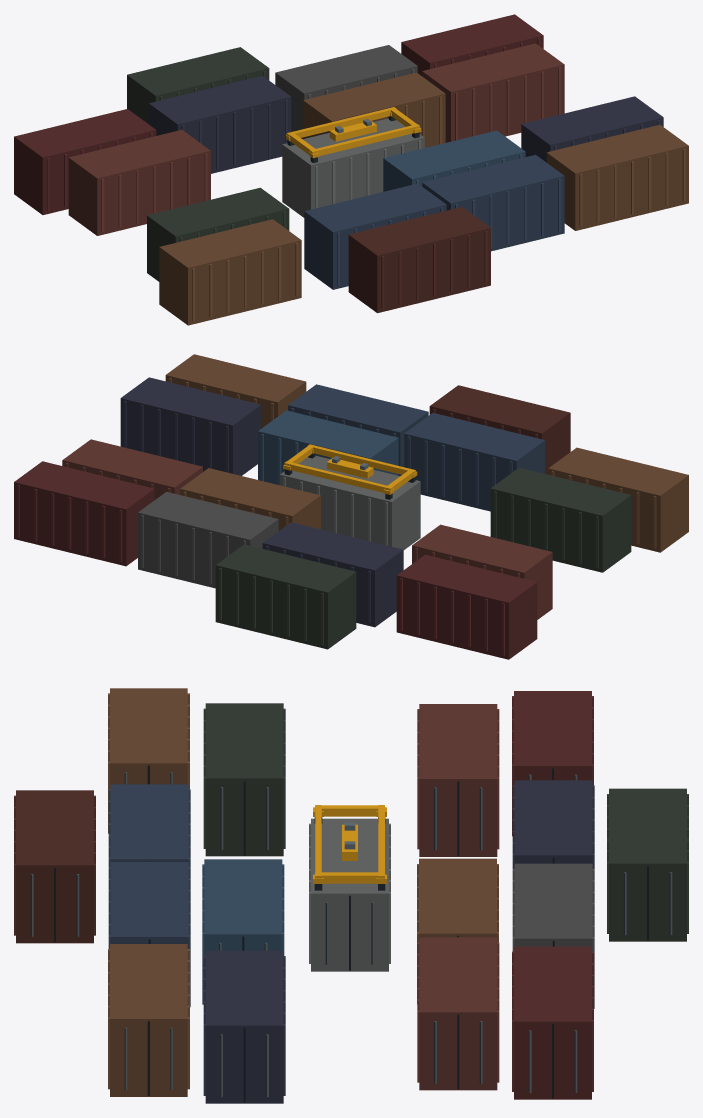
File: SeaportSystem-01-Container-01-20Footer-4-03.glb
3 views of the same model, one above another, from view 1: azimuth 30°, elevation 25°; view 2: azimuth 150°, elevation 25°; view 3: azimuth 270°, elevation 25° (orthographic). The views are drawn at different scales.
Visible parts, largest first — view 1: SeaportSystem-01-Container-01-20Footer-4-03; view 2: SeaportSystem-01-Container-01-20Footer-4-03; view 3: SeaportSystem-01-Container-01-20Footer-4-03.
Boxes of the visible parts, x1,y1,x2,y2 form: SeaportSystem-01-Container-01-20Footer-4-03: (14,14,688,325); SeaportSystem-01-Container-01-20Footer-4-03: (14,354,688,659); SeaportSystem-01-Container-01-20Footer-4-03: (14,688,688,1103).
Bounding box in the file's own units: 59.56 × 8.25 × 50.21.
